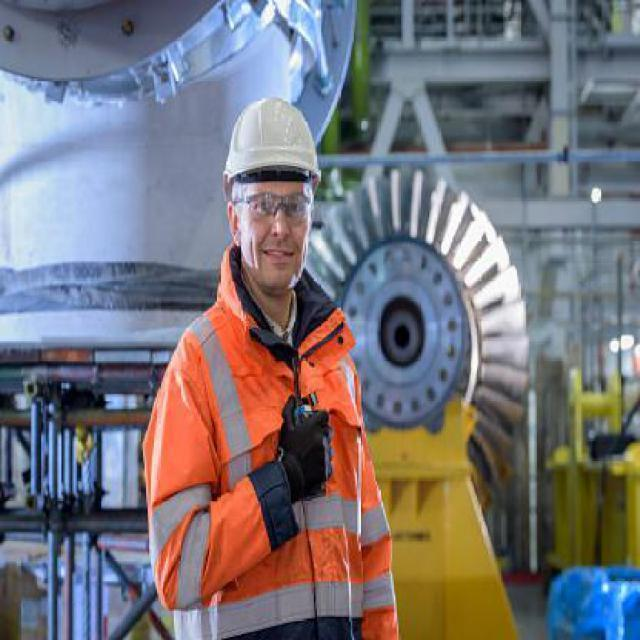gloves: (278, 396, 333, 499)
hard-hat: (224, 97, 320, 187)
mask: (230, 179, 314, 289)
person: (139, 96, 400, 639)
vest: (139, 245, 400, 638)
